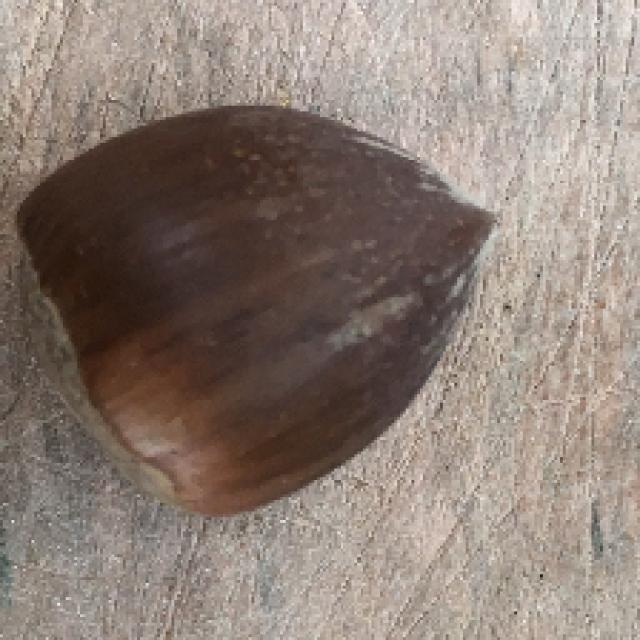qualityHazelnut: (13, 106, 502, 517)
